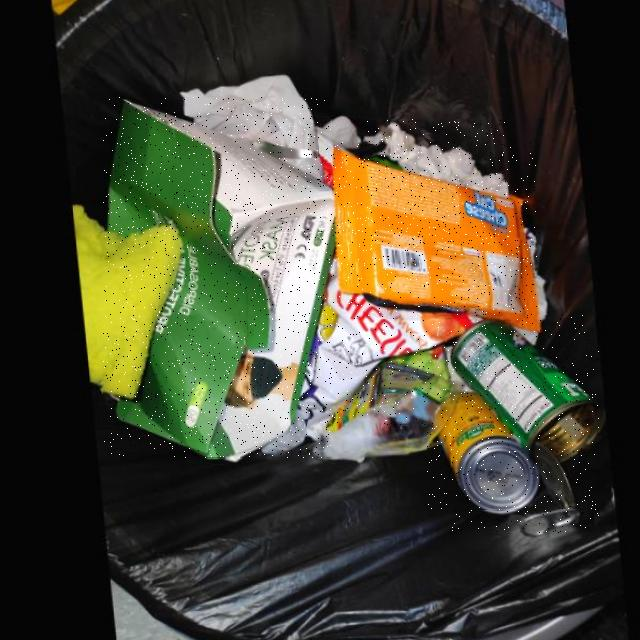metal: (446, 316, 599, 533), (427, 391, 533, 510)
paper: (103, 98, 332, 458), (363, 120, 505, 194)
wrapper: (330, 142, 537, 328), (292, 256, 478, 425)
